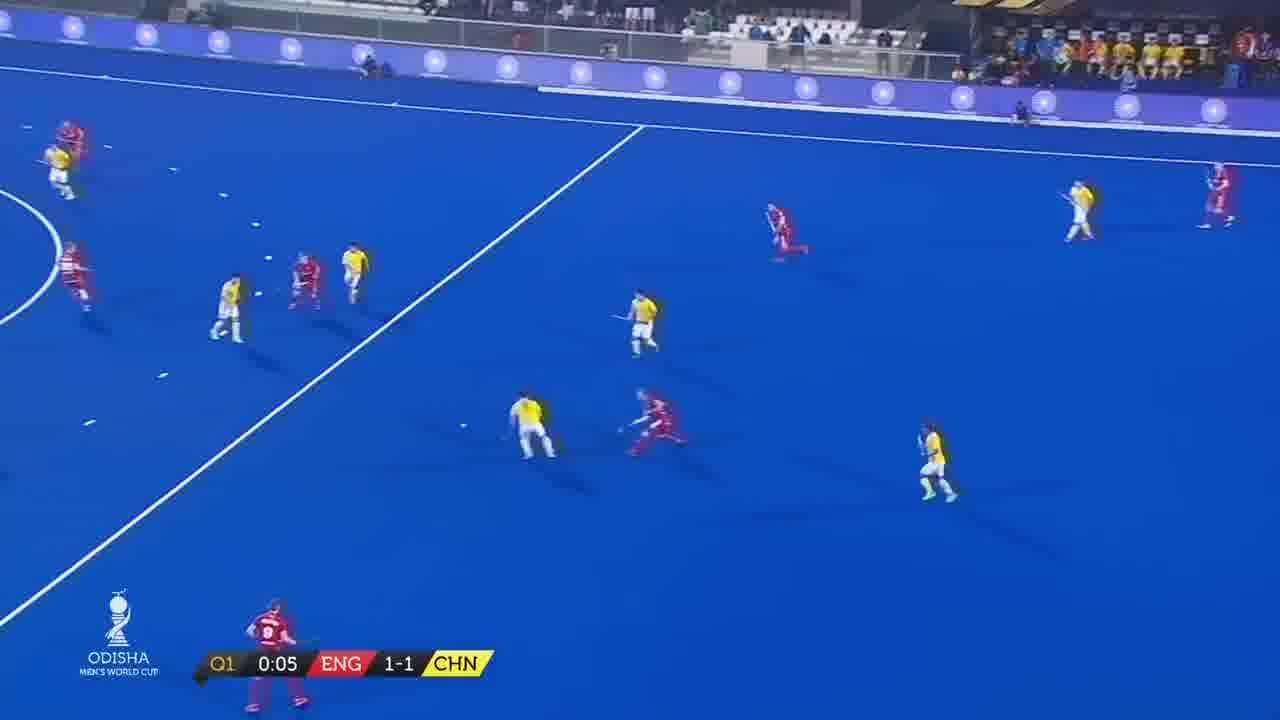ball: (458, 420, 471, 431)
